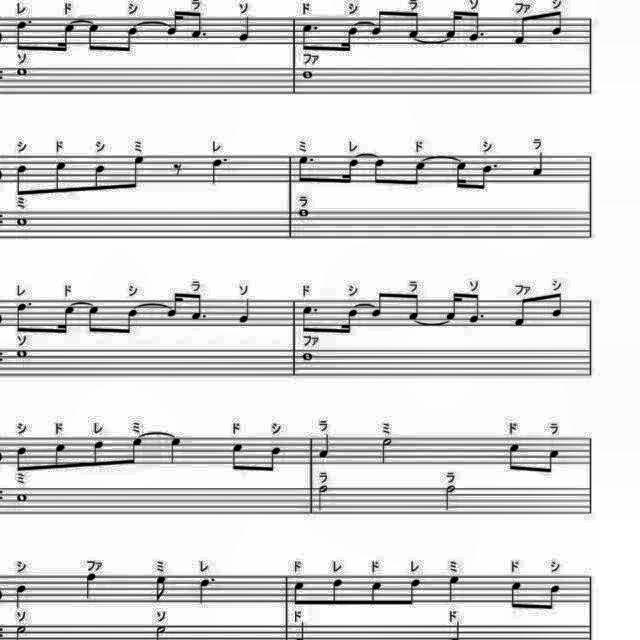Eighth-note: (122, 153, 150, 194), (12, 16, 36, 54), (51, 156, 73, 196), (10, 300, 34, 336), (476, 162, 500, 198), (540, 580, 564, 616), (188, 6, 212, 42), (505, 438, 527, 476), (294, 153, 318, 187), (124, 436, 148, 470), (540, 443, 564, 477), (408, 157, 432, 190), (119, 24, 143, 56), (262, 444, 286, 476), (85, 300, 105, 338), (468, 8, 489, 44), (403, 575, 425, 609), (465, 292, 487, 326), (119, 305, 141, 339), (300, 301, 322, 335), (512, 12, 532, 48), (228, 439, 248, 475), (10, 160, 30, 196), (504, 576, 524, 612), (189, 290, 211, 322), (368, 154, 388, 188), (51, 439, 71, 473), (90, 160, 110, 194), (298, 18, 318, 52), (86, 19, 104, 56), (326, 576, 346, 608), (512, 296, 532, 328), (548, 290, 568, 322), (150, 574, 170, 606), (368, 5, 387, 38), (548, 7, 568, 38), (90, 438, 108, 472), (368, 290, 387, 322), (404, 292, 424, 322), (13, 442, 32, 473), (366, 578, 384, 610), (290, 576, 308, 608), (406, 10, 424, 40)
Eighth-rest: (170, 158, 187, 180)
Full-note: (299, 66, 319, 82), (13, 212, 32, 228), (13, 64, 32, 80), (296, 206, 314, 220), (300, 349, 318, 363), (11, 491, 29, 504), (14, 348, 30, 360)
Half-note: (375, 434, 393, 466), (442, 483, 460, 513), (318, 482, 334, 514)
Quarter-dot: (196, 573, 220, 605)
Quarter-note: (208, 156, 232, 188), (82, 570, 104, 600), (445, 574, 465, 606), (528, 150, 548, 180), (166, 437, 186, 467), (236, 295, 256, 325), (236, 13, 256, 43), (316, 433, 334, 463), (11, 582, 29, 610)
Sixteenth-note: (54, 16, 78, 56), (54, 300, 78, 336), (160, 4, 183, 38), (338, 156, 362, 188), (338, 24, 362, 56), (444, 6, 464, 42), (449, 156, 469, 192), (440, 286, 460, 322), (338, 306, 360, 338), (162, 286, 182, 320)
